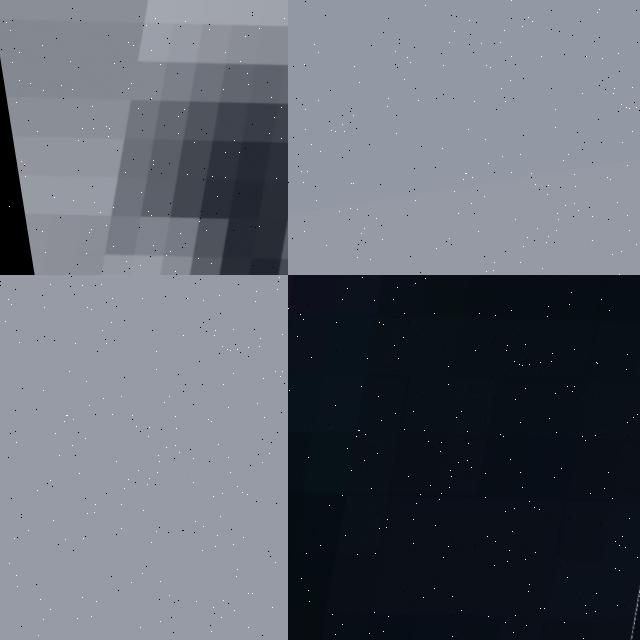drone: (288, 275, 640, 640), (0, 0, 288, 275)
